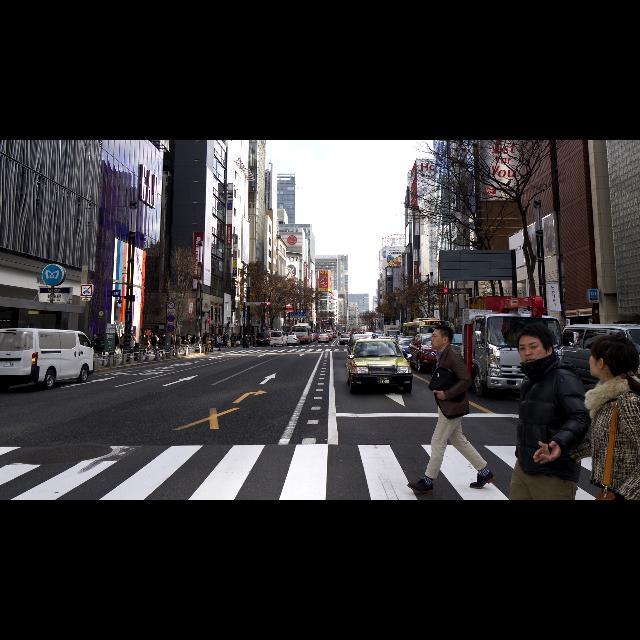head: (588, 334, 640, 378), (518, 325, 554, 371), (431, 326, 453, 349), (94, 332, 98, 338), (153, 333, 157, 337), (99, 334, 103, 338), (162, 334, 165, 338), (146, 336, 150, 338), (122, 334, 125, 336), (254, 335, 256, 337), (246, 336, 248, 338), (235, 334, 237, 336), (239, 334, 241, 336), (232, 334, 234, 336), (221, 336, 223, 338), (212, 337, 214, 339), (208, 336, 210, 338), (181, 334, 183, 336), (177, 335, 179, 337), (133, 334, 135, 336)
person: (408, 324, 497, 493), (93, 333, 103, 365), (90, 333, 100, 363), (119, 332, 128, 353), (151, 332, 157, 356), (175, 334, 182, 354), (144, 334, 150, 356), (180, 333, 186, 352), (161, 333, 167, 352), (132, 334, 138, 351), (210, 336, 216, 352), (205, 336, 211, 352), (218, 335, 222, 351), (252, 334, 256, 348), (233, 334, 237, 348), (237, 333, 241, 347), (230, 333, 234, 347), (244, 336, 248, 348)
